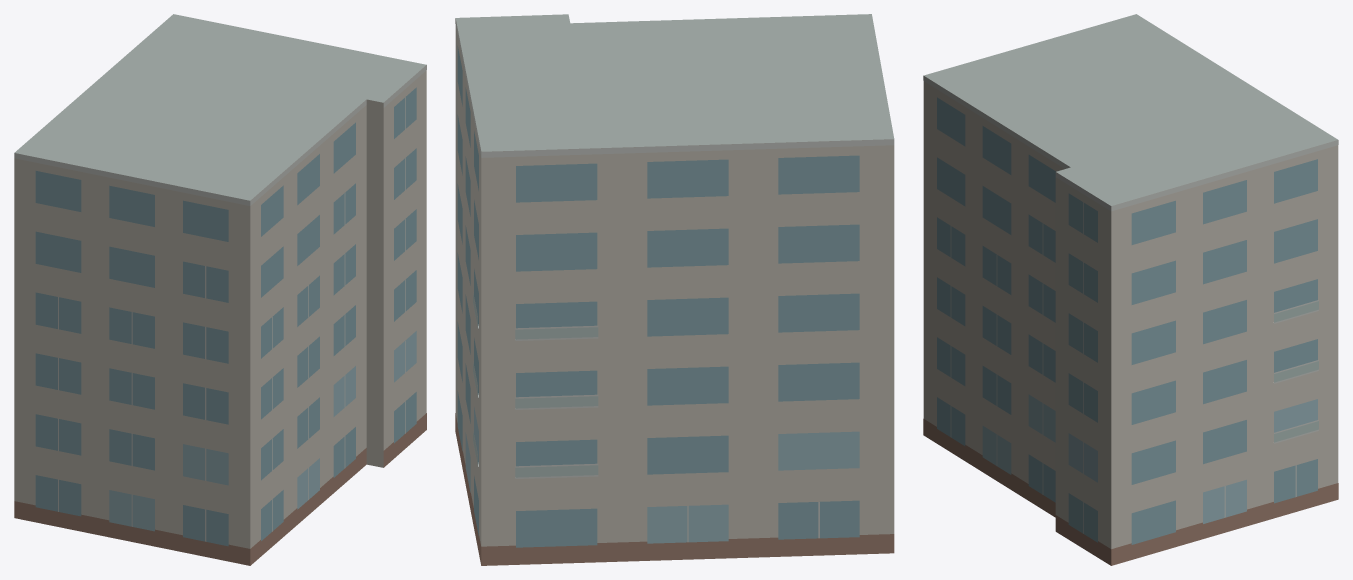
Rendered from survey-upis-32733450.glb.
The picture shows the model from 3 angles, left to right: view 1: azimuth 30°, elevation 25°; view 2: azimuth 150°, elevation 25°; view 3: azimuth 270°, elevation 25°; orthographic projection. The views are drawn at different scales.
Visible parts, largest first — view 1: survey-upis-32733450.tmp; view 2: survey-upis-32733450.tmp; view 3: survey-upis-32733450.tmp.
Boxes of the visible parts, x1,y1,x2,y2 form: survey-upis-32733450.tmp: [14, 14, 426, 565]; survey-upis-32733450.tmp: [455, 14, 894, 565]; survey-upis-32733450.tmp: [923, 14, 1338, 565].
Size of the model in its own units: 19.02 by 16.6 by 17.36.
